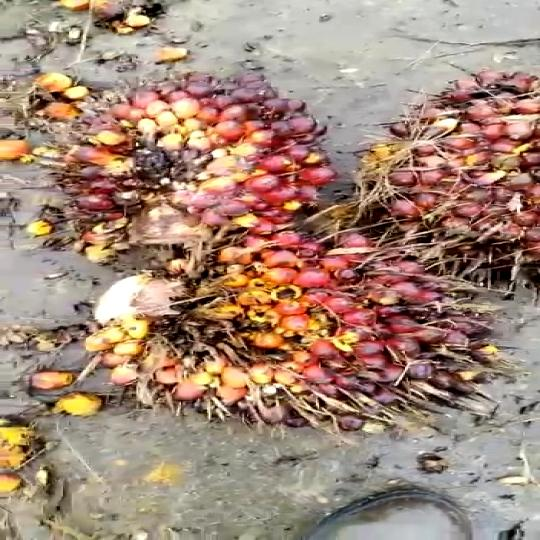masak: (73, 218, 501, 441), (32, 72, 384, 282), (369, 58, 540, 294)
